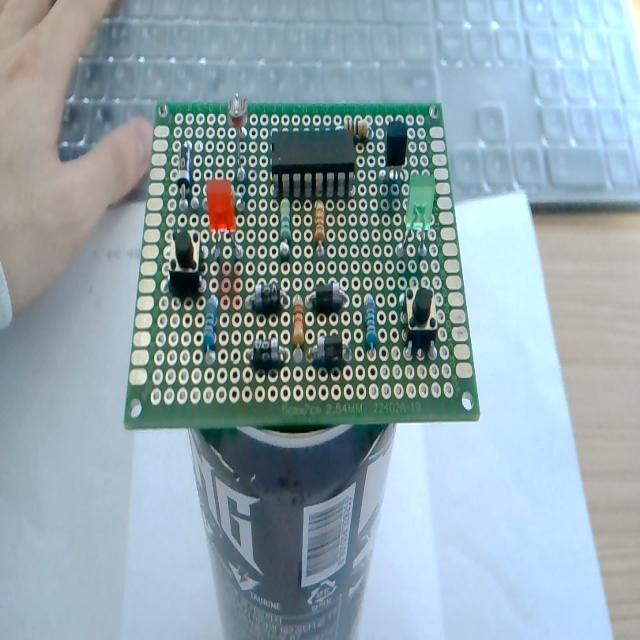IC: (267, 127, 359, 197)
cds: (225, 90, 253, 178)
diode: (302, 281, 352, 317), (242, 278, 288, 315), (241, 334, 289, 366), (307, 335, 355, 366), (174, 139, 193, 209)
led: (401, 170, 439, 258), (201, 177, 239, 253)
resistor: (360, 291, 382, 367), (288, 294, 309, 366), (276, 196, 296, 262), (310, 197, 329, 259), (202, 294, 218, 366)
switch: (398, 283, 442, 358), (164, 230, 206, 294)
transistor: (380, 120, 412, 180)
